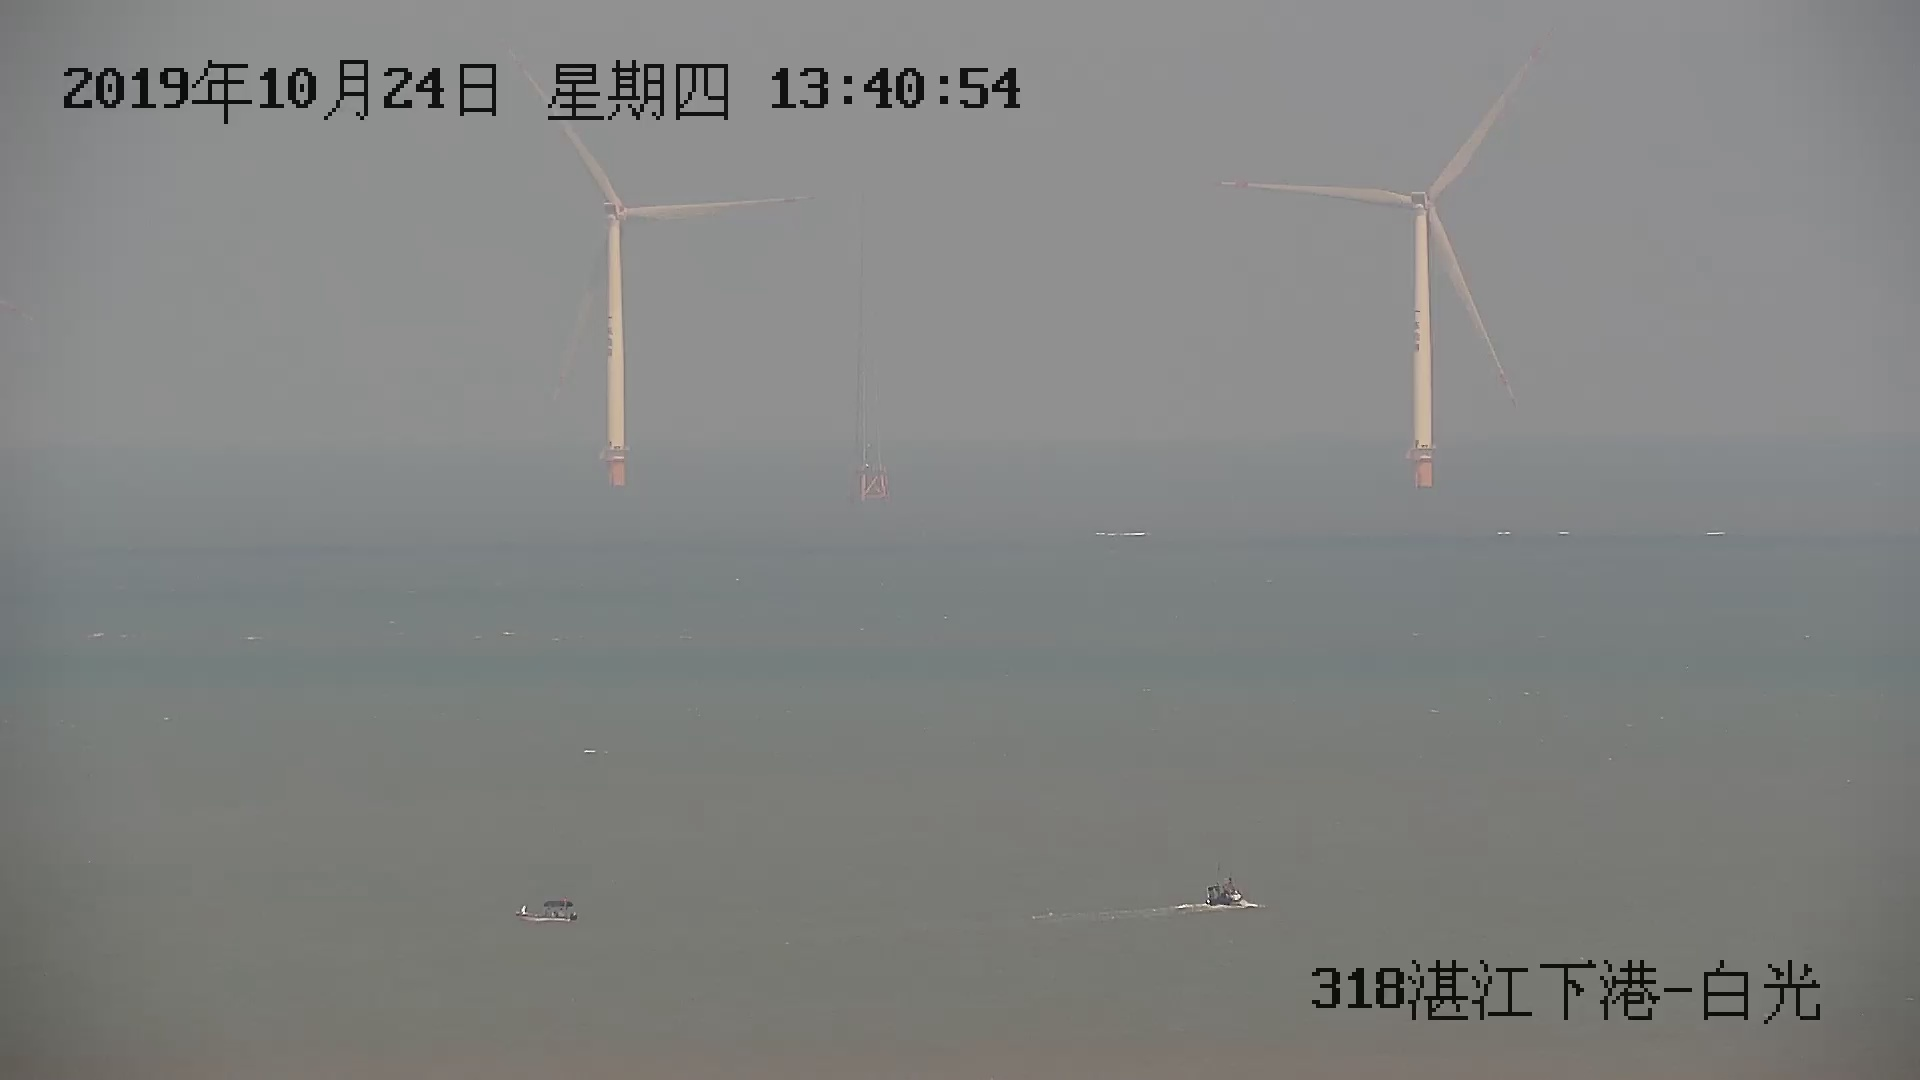ship: (1160, 878, 1265, 913), (512, 899, 585, 928)
